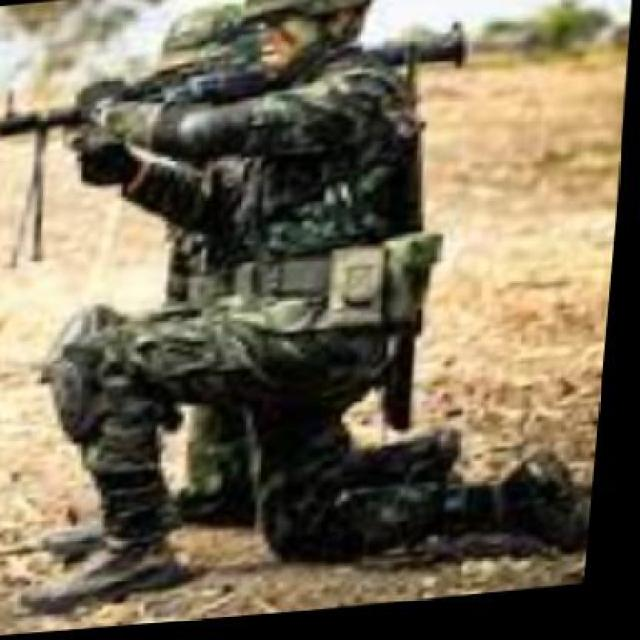MIL_Pax: (72, 0, 530, 558), (113, 0, 269, 326)
